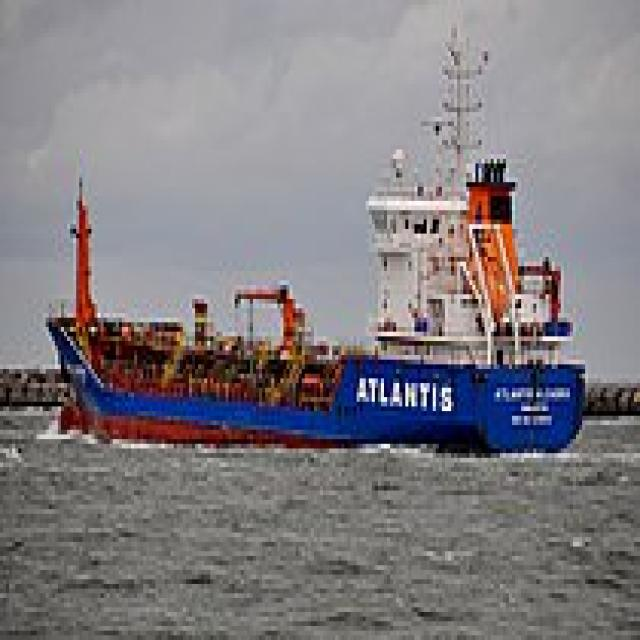Tanker: (43, 33, 588, 453)
